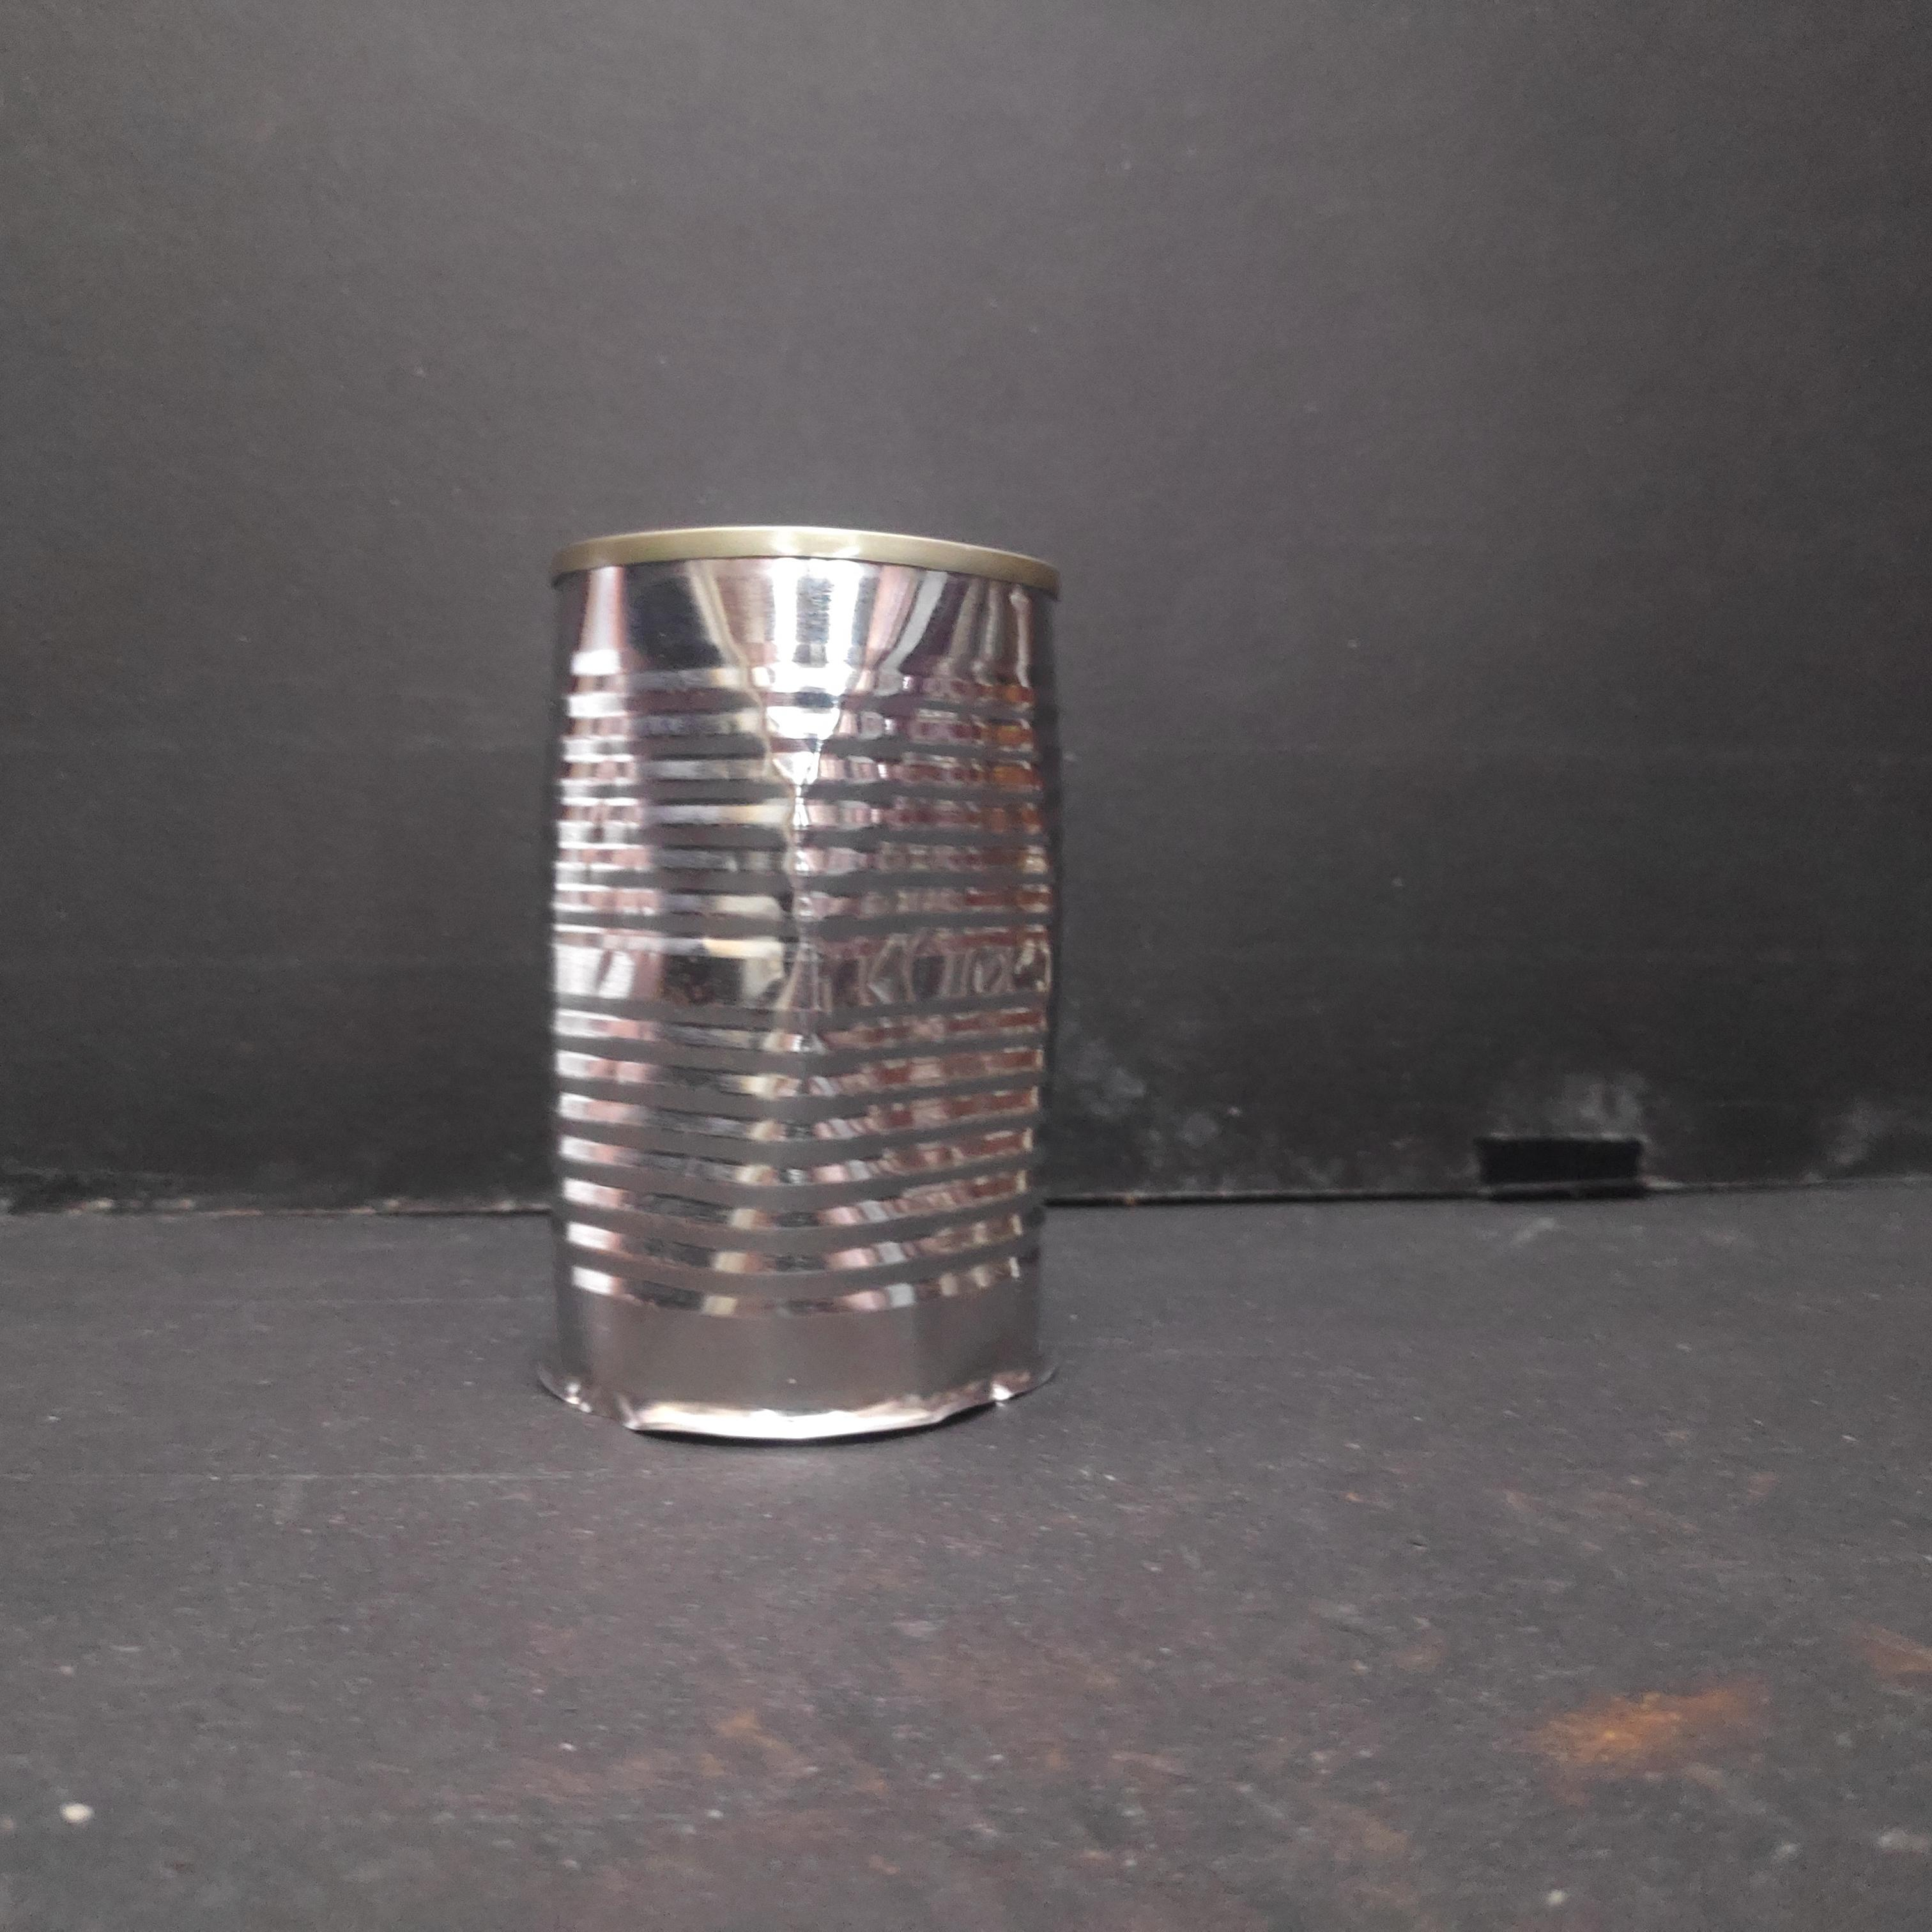Minor Defect: (525, 508, 1086, 1454)
